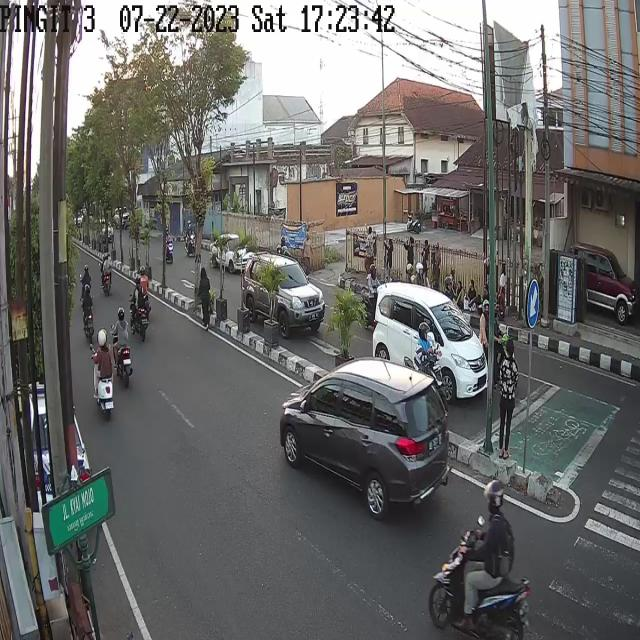car: (280, 359, 452, 522), (373, 278, 490, 403), (241, 251, 323, 338), (576, 244, 638, 325), (212, 233, 254, 275)
motorcycle: (428, 482, 532, 640), (402, 320, 445, 418), (481, 297, 516, 387), (93, 328, 114, 413), (115, 306, 133, 390), (130, 274, 145, 335), (82, 286, 95, 340), (102, 250, 114, 296), (183, 215, 195, 260), (162, 226, 174, 269)
